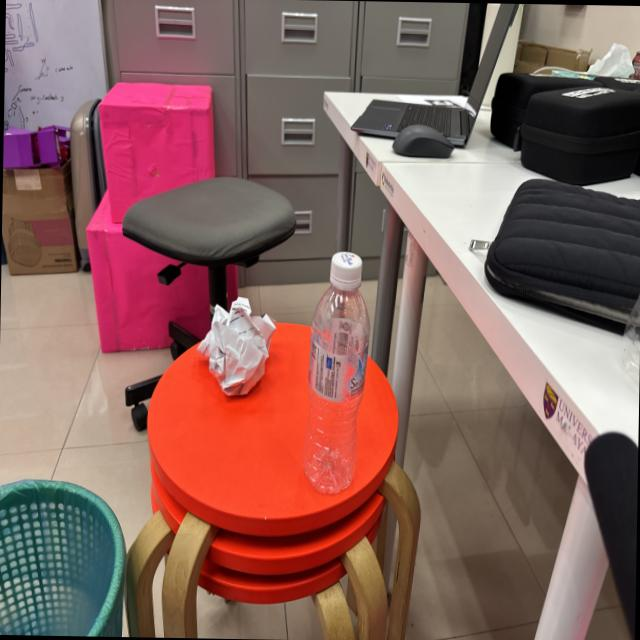crumpled_paper: (193, 284, 283, 404)
plastic_bottle: (297, 246, 374, 504)
